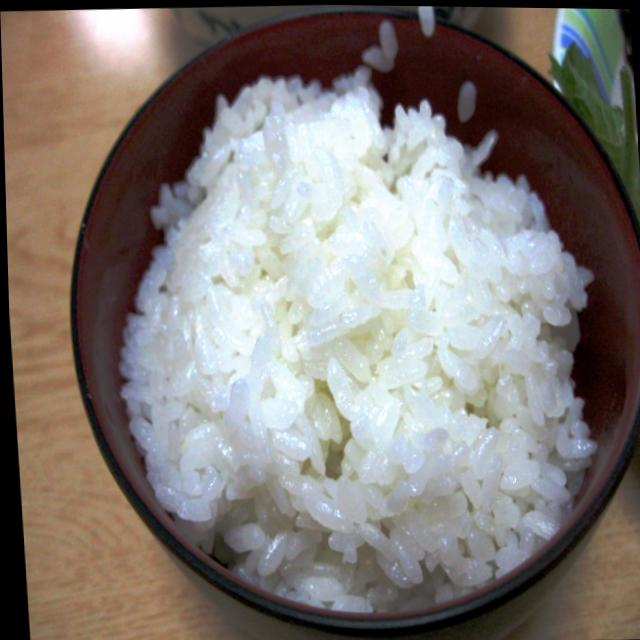rice: (95, 7, 615, 621)
